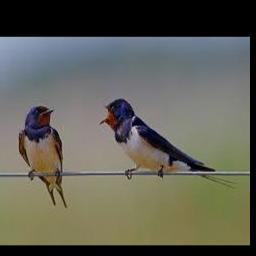Swallow: (97, 98, 237, 188), (19, 104, 66, 208)
